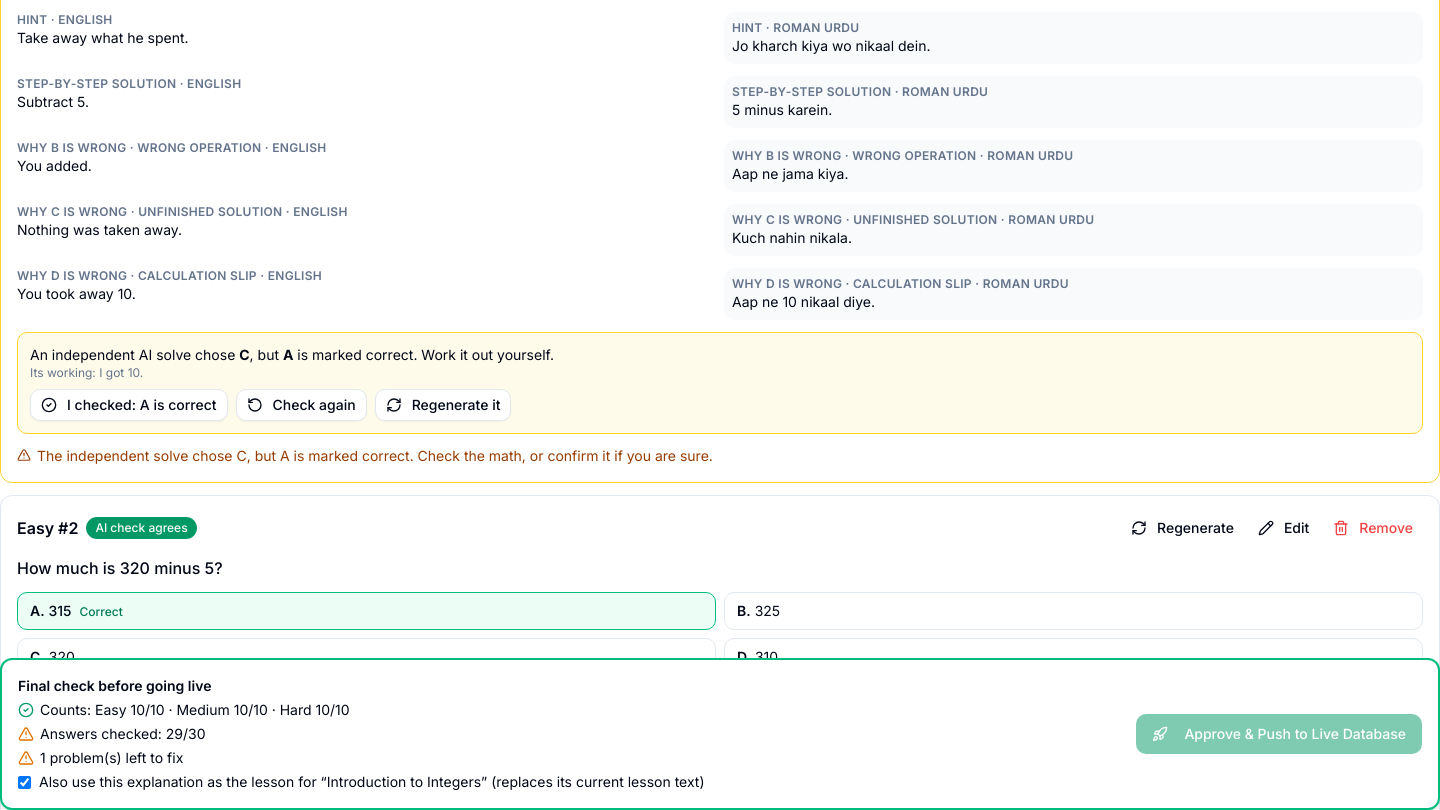
Test: AI draft review (Rule C) › keeps approval locked while the independent solve disagrees, until the admin confirms
(page scrolled)
Check: the text "An independent AI solve chose" is shown, box 30,346 -> 239,363
Check: the button "Approve & Push to Live Database" is disabled, box 1136,714 -> 1422,754
Click the button "I checked: A is correct" at (129, 405), box 30,389 -> 228,421
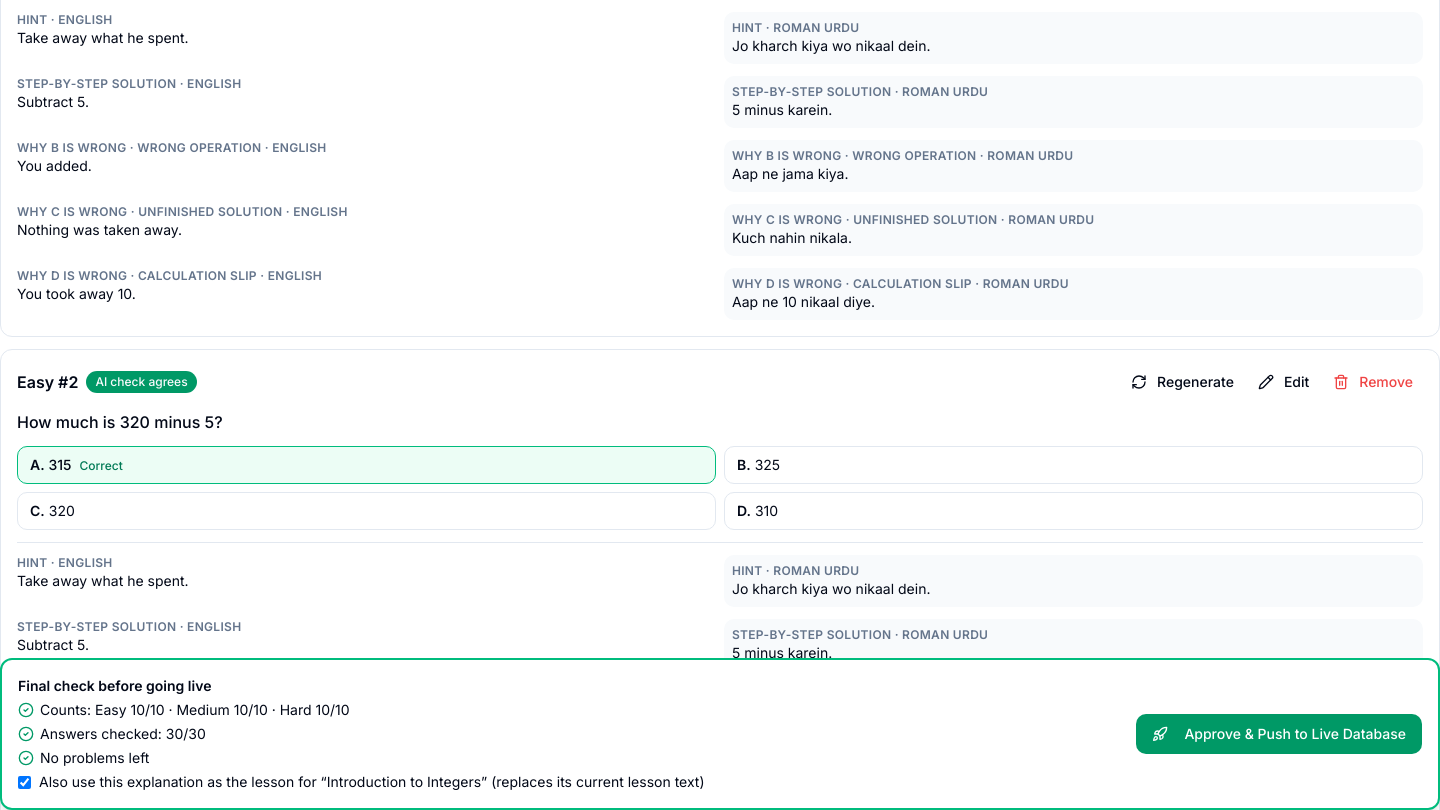
Check: the button "Approve & Push to Live Database" is enabled, box 1136,714 -> 1422,754
